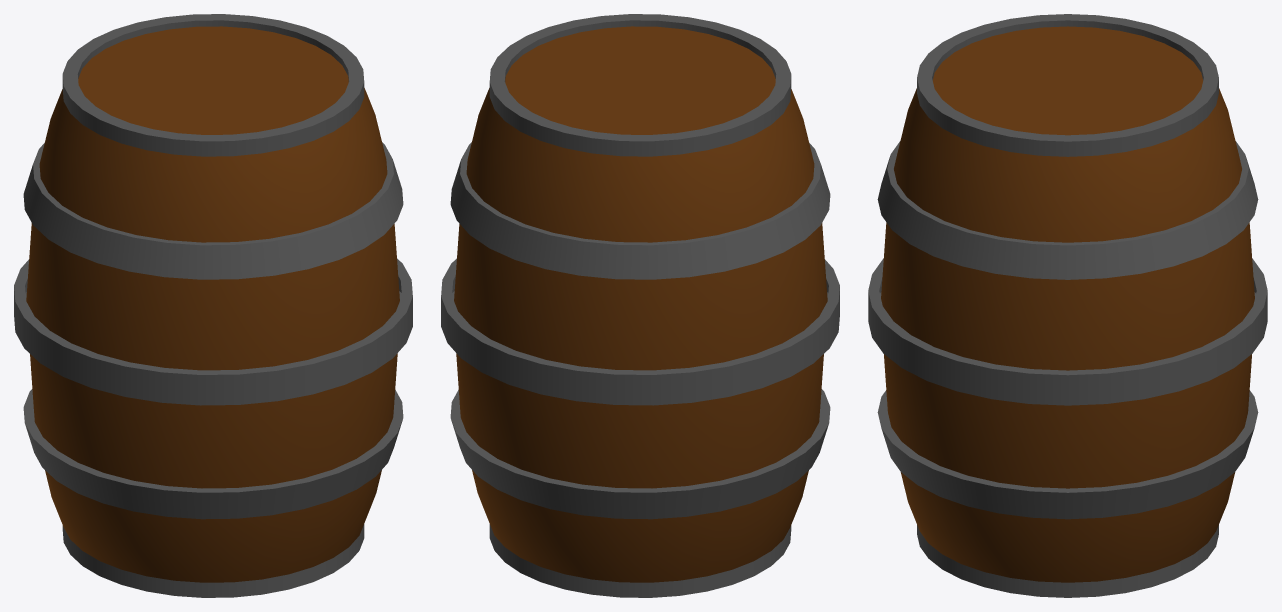
The model's file is Barrel.fbx.
3 renders of one model, left to right at view 1: azimuth 30°, elevation 25°; view 2: azimuth 150°, elevation 25°; view 3: azimuth 270°, elevation 25°, orthographic.
Parts seen in each view (by area): view 1: Circle.001; view 2: Circle.001; view 3: Circle.001.
Part boxes in pixels (<box>): Circle.001: <box>14,14,412,597</box>; Circle.001: <box>441,14,839,597</box>; Circle.001: <box>868,14,1267,597</box>.
Bounding box in the file's own units: 64.28 × 64.28 × 81.
